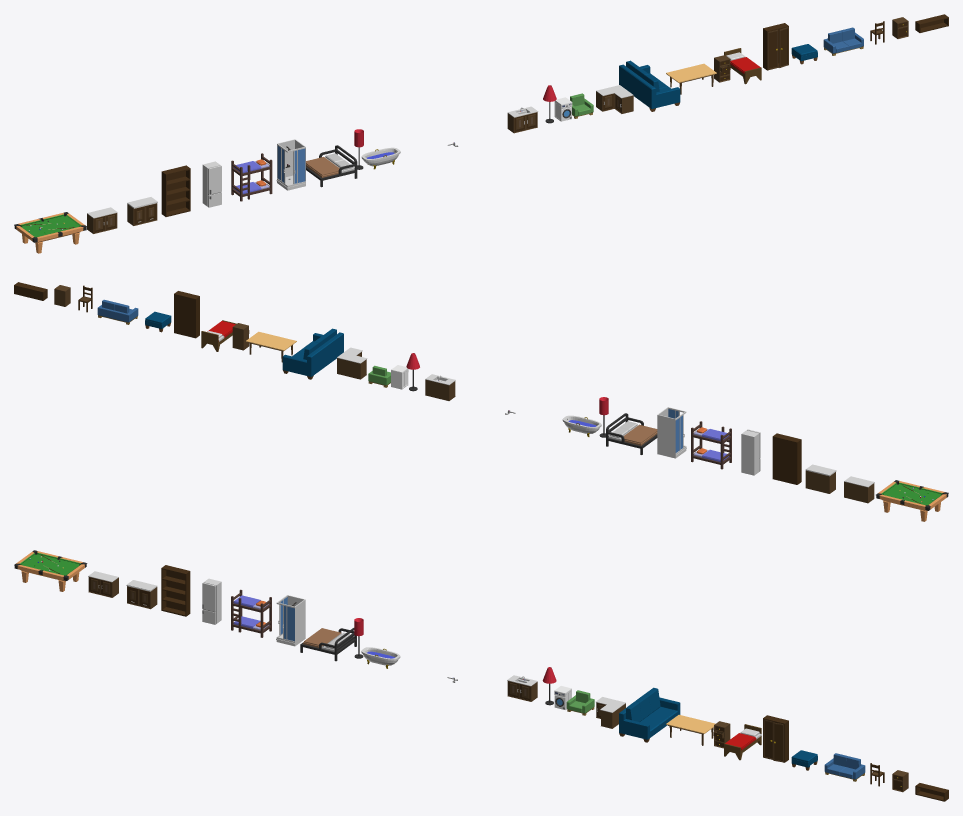
File: Interior_Mix.fbx
3 renders of one model, top to bottom at view 1: azimuth 30°, elevation 25°; view 2: azimuth 150°, elevation 25°; view 3: azimuth 330°, elevation 25°, orthographic.
Parts seen in each view (by area): view 1: Cube.005, PoolTable, Cube.017, Cube.018, Cube.006, Cube.022, Cube.008, Cube.011, Cube.013, Cube.009, Cube.012, Cube.014 (+4 smaller); view 2: Cube.005, PoolTable, Cube.017, Cube.018, Cube.006, Cube.022, Cube.008, Cube.013, Cube.011, Cube.012, Cube.019, Cube.010 (+4 smaller); view 3: Cube.005, PoolTable, Cube.017, Cube.018, Cube.006, Cube.008, Cube.022, Cube.013, Cube.009, Cube.014, Cube.012, Cube.011 (+4 smaller).
Part boxes in pixels (x1,y1,x2,y2): Cube.005: [619, 60, 680, 111]; PoolTable: [14, 212, 86, 253]; Cube.017: [161, 165, 190, 216]; Cube.018: [276, 139, 305, 190]; Cube.006: [231, 153, 272, 201]; Cube.022: [306, 145, 357, 187]; Cube.008: [763, 23, 788, 70]; Cube.011: [596, 85, 633, 113]; Cube.013: [202, 161, 221, 207]; Cube.009: [823, 27, 863, 55]; Cube.012: [127, 197, 157, 225]; Cube.014: [724, 48, 761, 84]; Cube.005: [282, 328, 343, 379]; PoolTable: [876, 480, 948, 521]; Cube.017: [772, 433, 801, 484]; Cube.018: [657, 407, 686, 458]; Cube.006: [691, 421, 731, 469]; Cube.022: [606, 413, 657, 454]; Cube.008: [174, 291, 199, 338]; Cube.013: [741, 429, 760, 475]; Cube.011: [337, 347, 367, 379]; Cube.012: [805, 464, 836, 493]; Cube.019: [425, 374, 455, 400]; Cube.010: [844, 476, 874, 503]; Cube.005: [619, 687, 680, 742]; PoolTable: [14, 550, 87, 591]; Cube.017: [161, 565, 190, 616]; Cube.018: [276, 595, 305, 646]; Cube.006: [231, 589, 271, 637]; Cube.008: [763, 715, 788, 762]; Cube.022: [300, 628, 356, 661]; Cube.013: [202, 578, 221, 624]; Cube.009: [824, 753, 865, 781]; Cube.014: [724, 724, 761, 760]; Cube.012: [126, 580, 157, 609]; Cube.011: [596, 697, 625, 728].
Size of the model in its own units: 10004 by 462 by 612.
